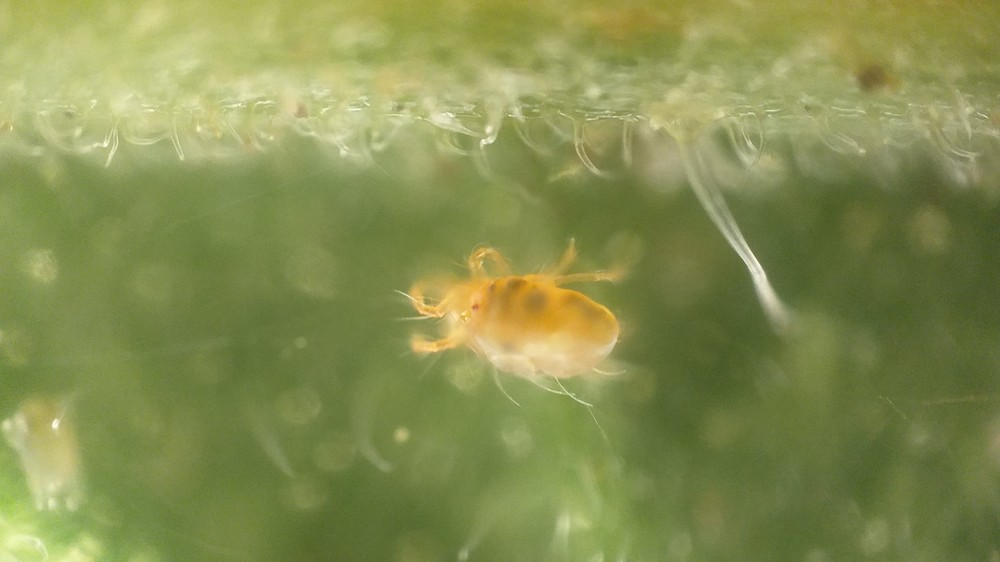Aracnido Rojo: (378, 219, 654, 433)
